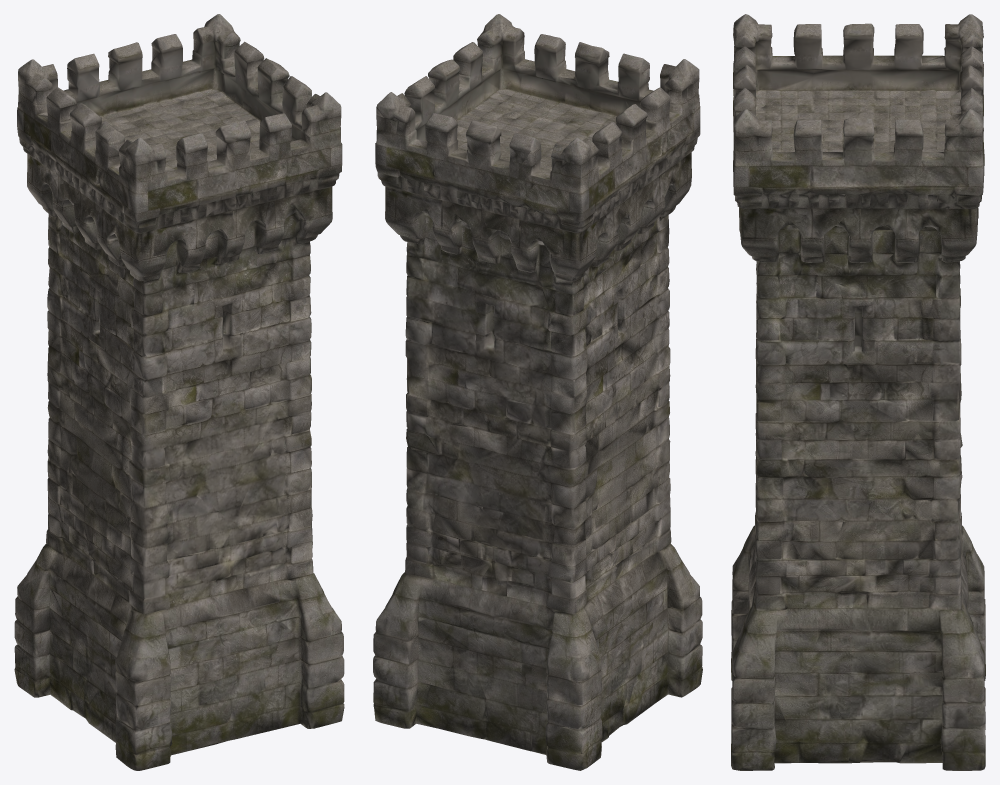
File: fort_m_ruins_tower.glb
3 renders of one model, left to right at view 1: azimuth 30°, elevation 25°; view 2: azimuth 150°, elevation 25°; view 3: azimuth 270°, elevation 25°, orthographic. The views are drawn at different scales.
Visible parts, largest first — view 1: fort_m_ruins_tower; view 2: fort_m_ruins_tower; view 3: fort_m_ruins_tower.
Part boxes in pixels (x1=…): fort_m_ruins_tower: x1=14, y1=14, x2=344, y2=770; fort_m_ruins_tower: x1=373, y1=14, x2=702, y2=770; fort_m_ruins_tower: x1=731, y1=14, x2=985, y2=770.
Bounding box in the file's own units: 0.6706 × 1.9 × 0.67.
Materials: 1 (1 with a texture image).
